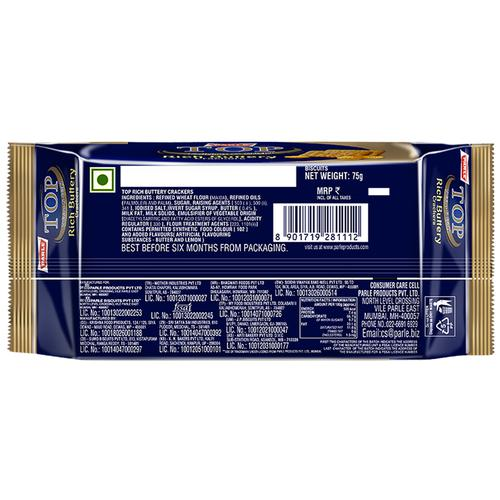VEG: (89, 166, 117, 194)
